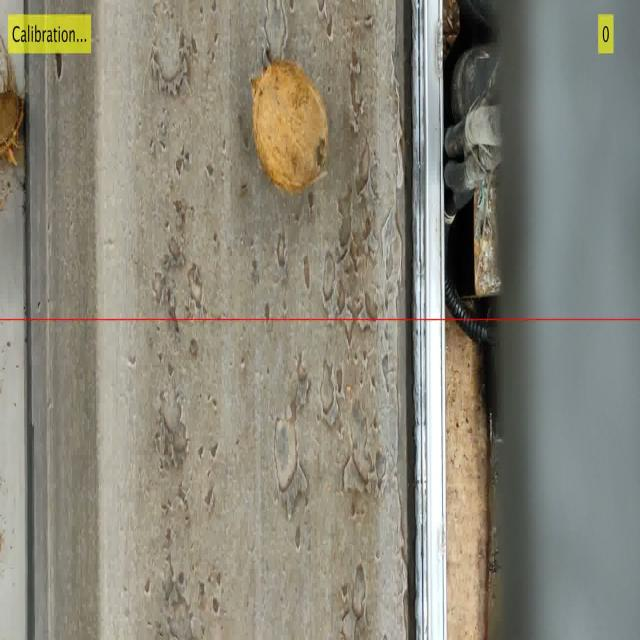Coconut-Conveyor-Belt: (250, 58, 334, 194), (0, 37, 24, 165)
